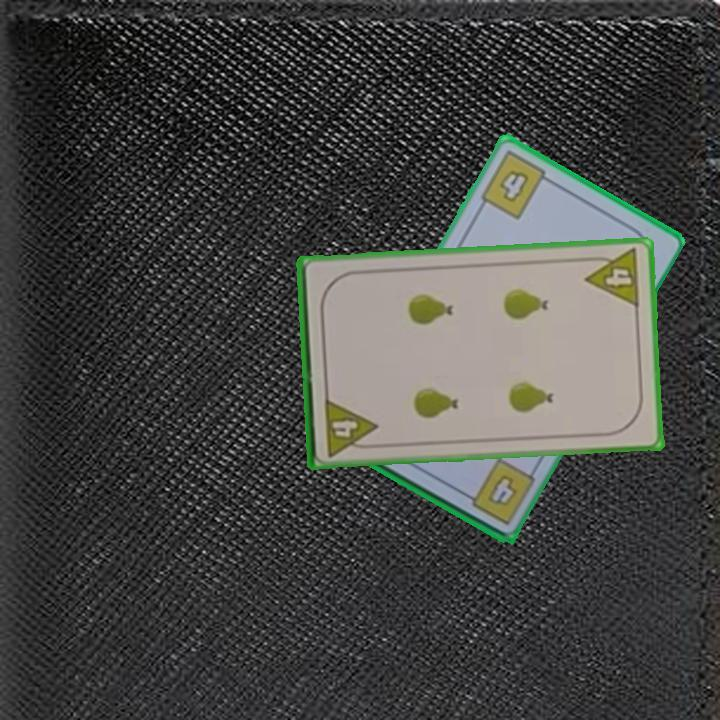4b: (476, 147, 557, 223), (457, 454, 538, 528)
4p: (581, 245, 643, 310), (321, 394, 380, 459)
